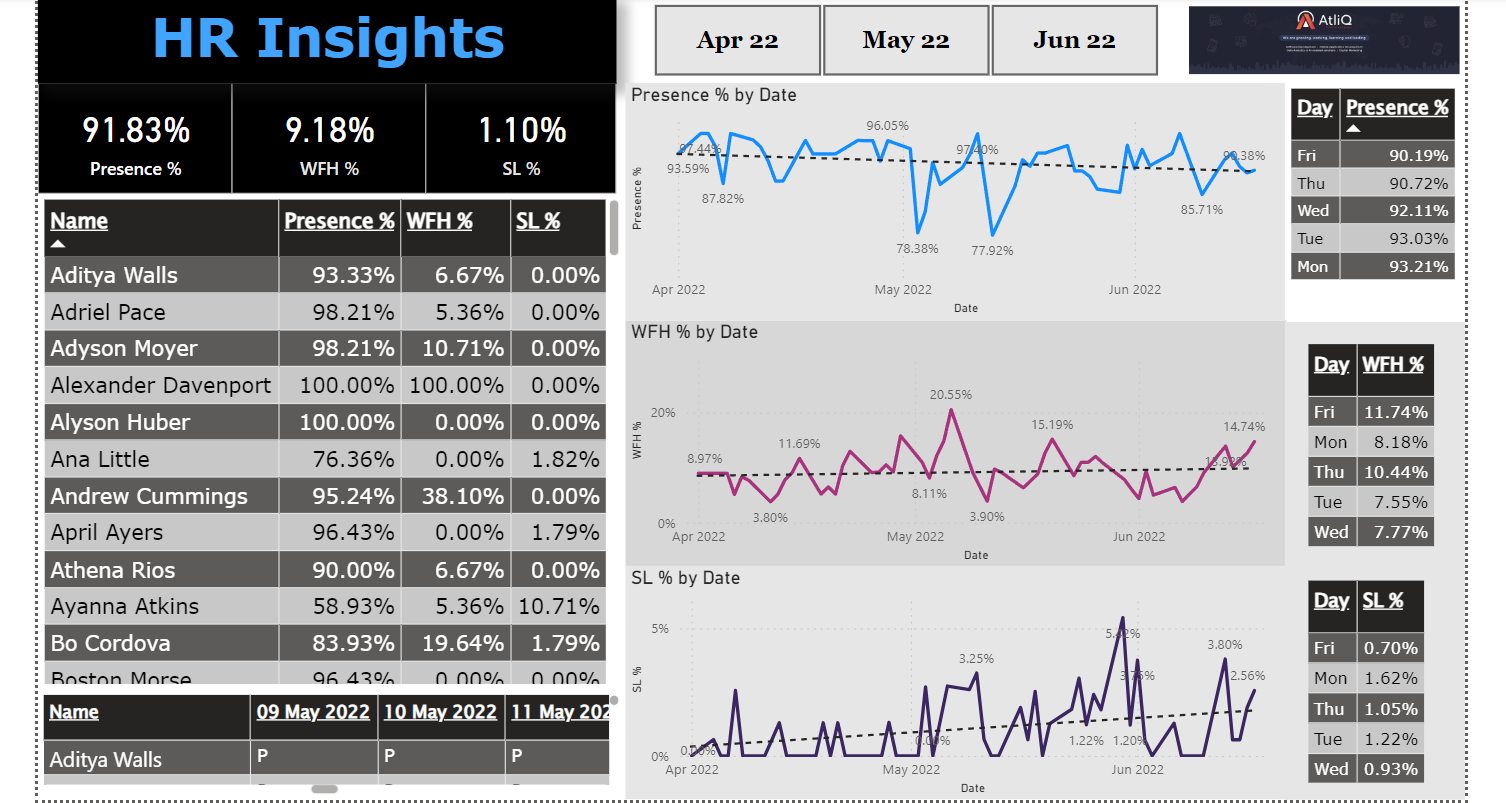

This screenshot's page, from the dashboard's own definition file:
{"tool":"powerbi","page":{"name":"Page 1","canvas":[1280,720],"ordinal":0},"visuals":[{"type":"card","fields":{"Values":["Measures (2).Presence %"]},"box":[0,77.6,173.8,99.3],"z":0},{"type":"slicer","fields":{"Values":["Combined Data.Month"]},"box":[526,0,501.2,77.6],"z":1000},{"type":"card","fields":{"Values":["Measures (2).WFH %"]},"box":[173.8,77.6,173.8,99.3],"z":2000},{"type":"card","fields":{"Values":["Measures (2).SL %"]},"box":[347.6,77.6,170.7,99.3],"z":3000},{"type":"pivotTable","fields":{"Rows":["Combined Data.Name"],"Values":["Combined Data.Value"],"Columns":["Combined Data.Date"]},"box":[0,620.7,526,99.3],"z":4000},{"type":"textbox","box":[0,0,518.3,77.6],"z":5000},{"type":"tableEx","fields":{"Values":["Combined Data.Name","Measures (2).Presence %","Measures (2).WFH %","Measures (2).SL %"]},"box":[0,176.9,526,443.8],"z":6000},{"type":"lineChart","fields":{"Category":["Combined Data.Date"],"Y":["Measures (2).Presence %"]},"box":[526,77.6,592.8,212.6],"z":7000},{"type":"lineChart","fields":{"Category":["Combined Data.Date"],"Y":["Measures (2).WFH %"]},"box":[526,290.2,592.8,220.3],"z":8000},{"type":"lineChart","fields":{"Category":["Combined Data.Date"],"Y":["Measures (2).SL %"]},"box":[526,510.5,592.8,209.5],"z":9000},{"type":"tableEx","fields":{"Values":["Combined Data.Day","Measures (2).Presence %"]},"box":[1117.6,77.3,162.6,212.6],"z":10000},{"type":"tableEx","fields":{"Values":["Combined Data.Day","Measures (2).WFH %"]},"box":[1117.6,291.5,162.6,220.6],"z":11000},{"type":"tableEx","fields":{"Values":["Combined Data.Day","Measures (2).SL %"]},"box":[1117.6,508.9,162.6,211],"z":12000},{"type":"image","box":[1027.2,0,252.9,77.6],"z":13000}]}

Visuals, with their boxes on the page's 1280x720 design canvas (x1, y1, x2, y2). These are canvas units, not pixel positions in the 1506x803 screenshot, which may show the page scaled, cropped or inside an application window:
card - Measures (2).Presence %: (x1=0, y1=78, x2=174, y2=177)
slicer - Combined Data.Month: (x1=526, y1=0, x2=1027, y2=78)
card - Measures (2).WFH %: (x1=174, y1=78, x2=348, y2=177)
card - Measures (2).SL %: (x1=348, y1=78, x2=518, y2=177)
pivotTable - Combined Data.Name x Combined Data.Value: (x1=0, y1=621, x2=526, y2=720)
textbox: (x1=0, y1=0, x2=518, y2=78)
tableEx - Combined Data.Name x Measures (2).Presence %: (x1=0, y1=177, x2=526, y2=621)
lineChart - Combined Data.Date x Measures (2).Presence %: (x1=526, y1=78, x2=1119, y2=290)
lineChart - Combined Data.Date x Measures (2).WFH %: (x1=526, y1=290, x2=1119, y2=510)
lineChart - Combined Data.Date x Measures (2).SL %: (x1=526, y1=510, x2=1119, y2=720)
tableEx - Combined Data.Day x Measures (2).Presence %: (x1=1118, y1=77, x2=1280, y2=290)
tableEx - Combined Data.Day x Measures (2).WFH %: (x1=1118, y1=292, x2=1280, y2=512)
tableEx - Combined Data.Day x Measures (2).SL %: (x1=1118, y1=509, x2=1280, y2=720)
image: (x1=1027, y1=0, x2=1280, y2=78)
